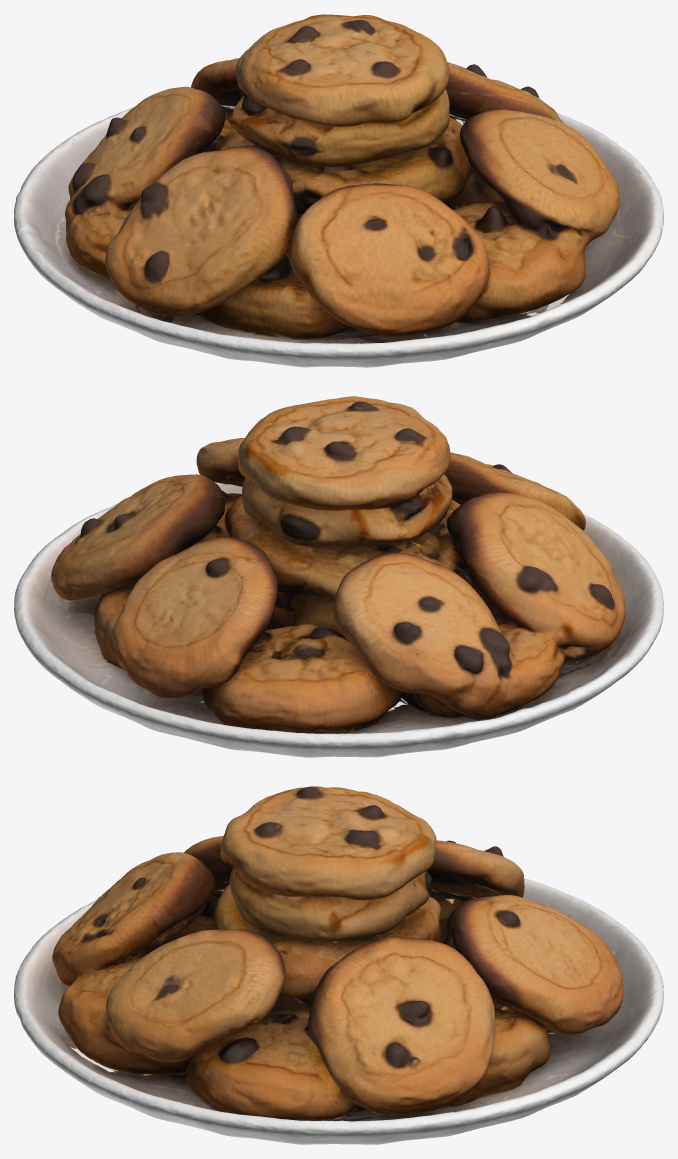
Rendered from cookies.glb.
3 renders of one model, top to bottom at view 1: azimuth 30°, elevation 25°; view 2: azimuth 150°, elevation 25°; view 3: azimuth 270°, elevation 25°, orthographic.
Visible parts, largest first — view 1: Object_5, Object_6, Object_4, Object_8, Object_7, Object_9; view 2: Object_4, Object_5, Object_6, Object_8, Object_7; view 3: Object_5, Object_6, Object_4, Object_8, Object_7, Object_9.
Part boxes in pixels (left/top/right/bottom): Object_5: left=15, top=18, right=663, bottom=367; Object_6: left=14, top=20, right=663, bottom=367; Object_4: left=34, top=14, right=659, bottom=362; Object_8: left=14, top=28, right=649, bottom=353; Object_7: left=25, top=15, right=650, bottom=366; Object_9: left=146, top=140, right=663, bottom=362; Object_4: left=36, top=415, right=662, bottom=733; Object_5: left=56, top=396, right=648, bottom=735; Object_6: left=14, top=406, right=625, bottom=757; Object_8: left=14, top=399, right=663, bottom=757; Object_7: left=24, top=425, right=652, bottom=733; Object_5: left=14, top=786, right=663, bottom=1137; Object_6: left=14, top=791, right=661, bottom=1137; Object_4: left=61, top=791, right=643, bottom=1144; Object_8: left=153, top=787, right=663, bottom=1144; Object_7: left=14, top=793, right=550, bottom=1144; Object_9: left=109, top=842, right=212, bottom=1125.
Bounding box in the file's own units: 1.9 × 0.7269 × 1.9.
1 material, 1 textured.
